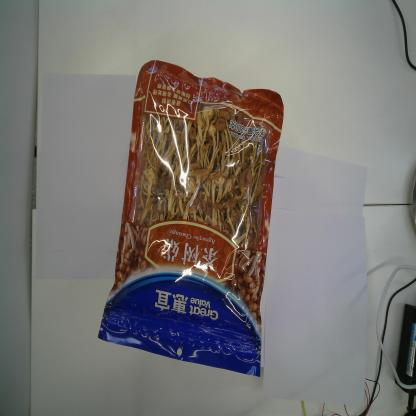Dried Food: (97, 58, 284, 391)
